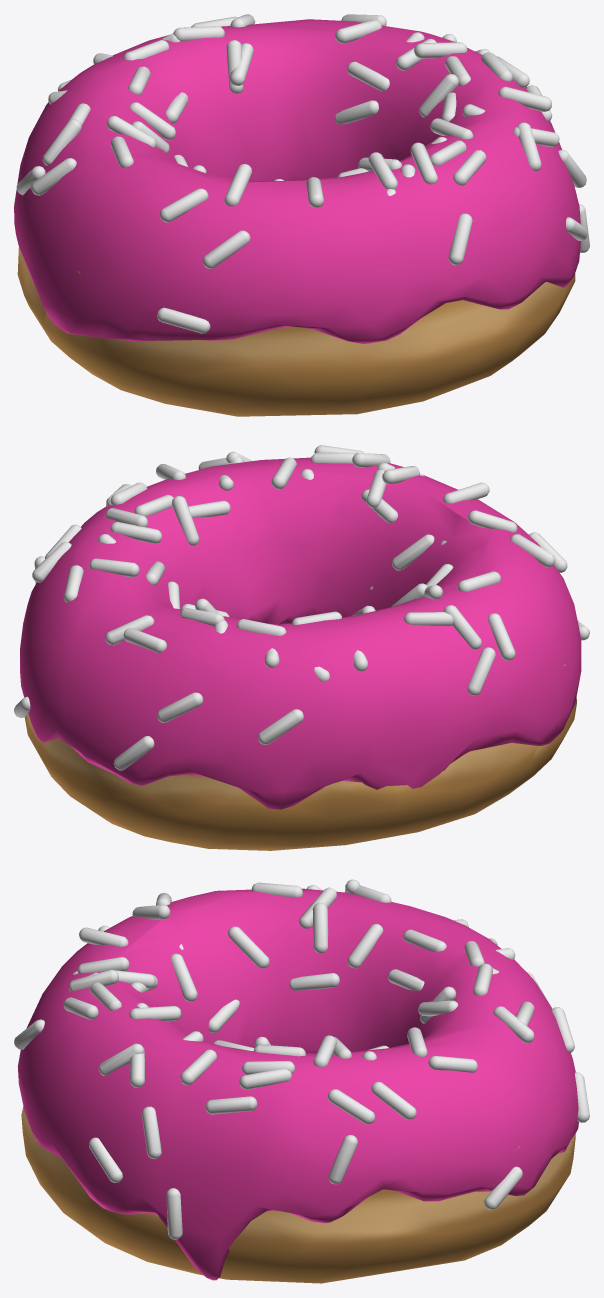
The model's file is donut.glb.
The picture shows the model from 3 angles, top to bottom: view 1: azimuth 30°, elevation 25°; view 2: azimuth 150°, elevation 25°; view 3: azimuth 270°, elevation 25°; orthographic projection. The views are drawn at different scales.
Parts seen in each view (by area): view 1: glaze.001, donut.001, sprinkles.001; view 2: glaze.001, donut.001, sprinkles.001; view 3: glaze.001, sprinkles.001, donut.001.
Part boxes in pixels (x1=…): glaze.001: x1=14, y1=19, x2=580, y2=344; donut.001: x1=17, y1=247, x2=575, y2=416; sprinkles.001: x1=16, y1=14, x2=589, y2=333; glaze.001: x1=20, y1=457, x2=581, y2=809; donut.001: x1=24, y1=664, x2=576, y2=850; sprinkles.001: x1=14, y1=445, x2=589, y2=770; glaze.001: x1=17, y1=888, x2=578, y2=1280; sprinkles.001: x1=14, y1=879, x2=589, y2=1239; donut.001: x1=21, y1=1106, x2=575, y2=1283.
Size of the model in its own units: 0.1529 by 0.0728 by 0.1557.
Materials: 2 (1 with a texture image).
